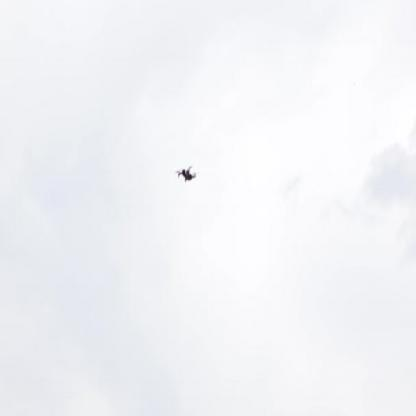drone: (176, 166, 199, 186)
